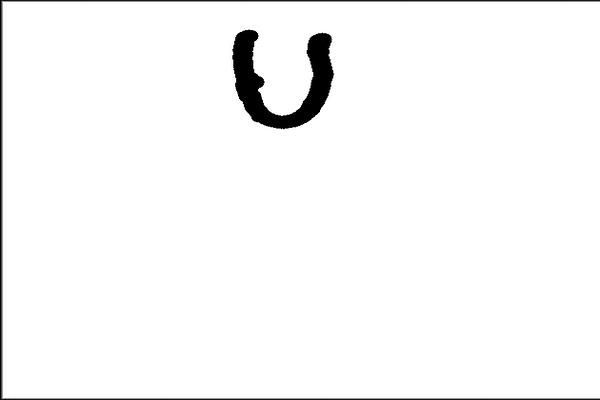U: (219, 18, 341, 129)
